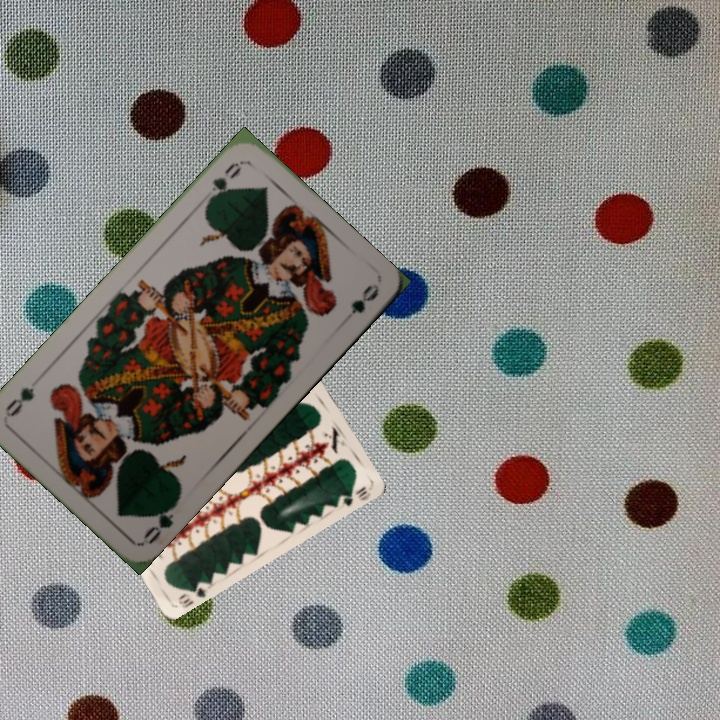G10: (174, 577, 208, 611)
GO: (139, 495, 182, 547), (203, 158, 245, 207)
